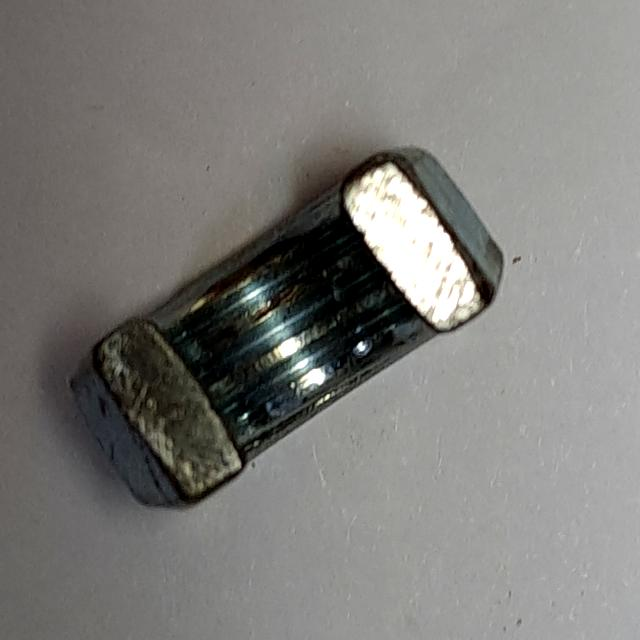Side-Fracture: (59, 136, 513, 519)
